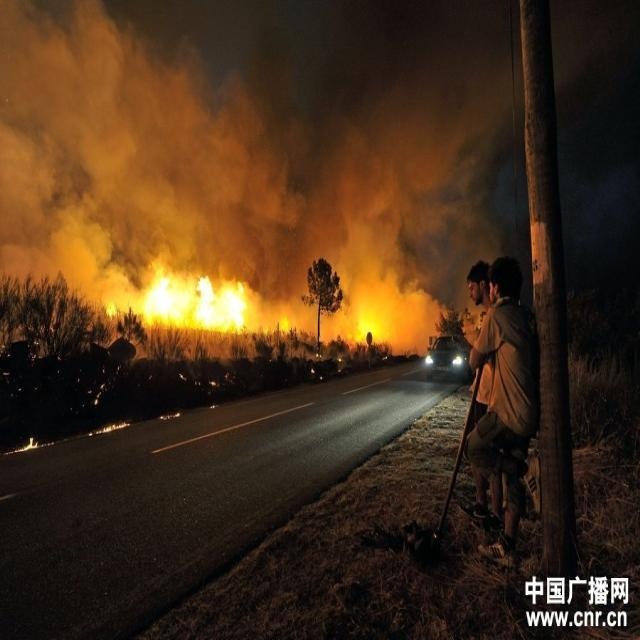Fire: (138, 264, 252, 336), (3, 434, 55, 456), (88, 421, 130, 437), (158, 412, 180, 419)
Smoke: (1, 1, 524, 254)
